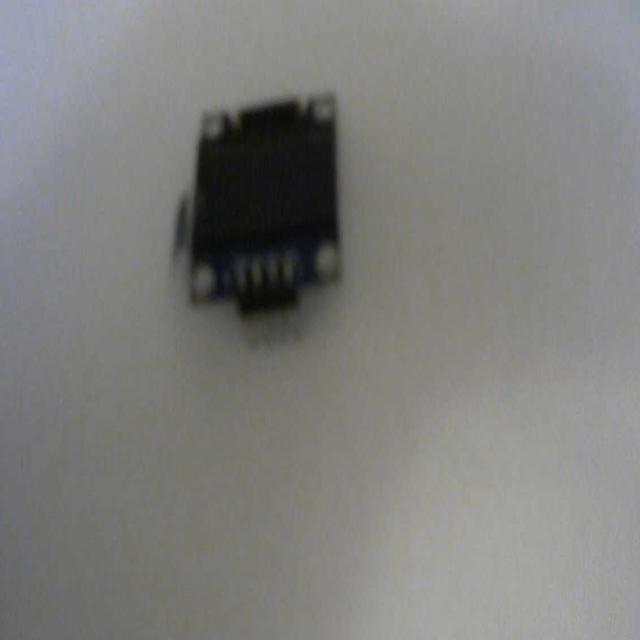oled: (170, 89, 351, 342)
